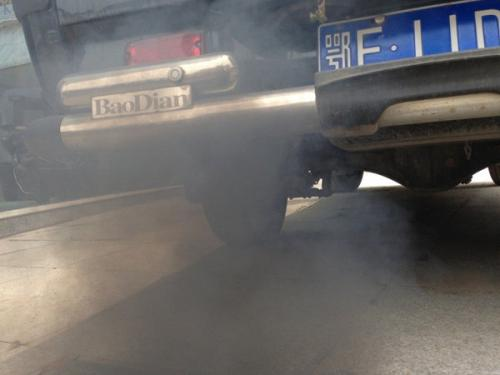smoke: (35, 135, 361, 375)
